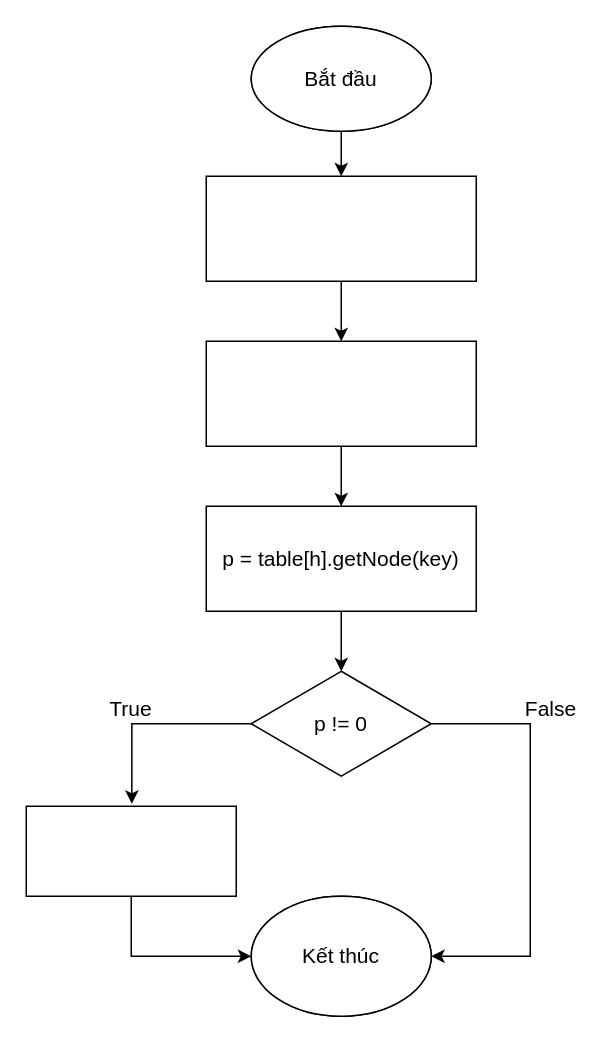
This 608x1043 diagram has some shape labels left out. The centre of each missing label's shape, as x and y in pixels:
"int h = hash(key, N)" goes at (x=340, y=393).
"Node <Keys, T> *p" goes at (x=340, y=228).
"table[h].remove(p)" goes at (x=130, y=850).
